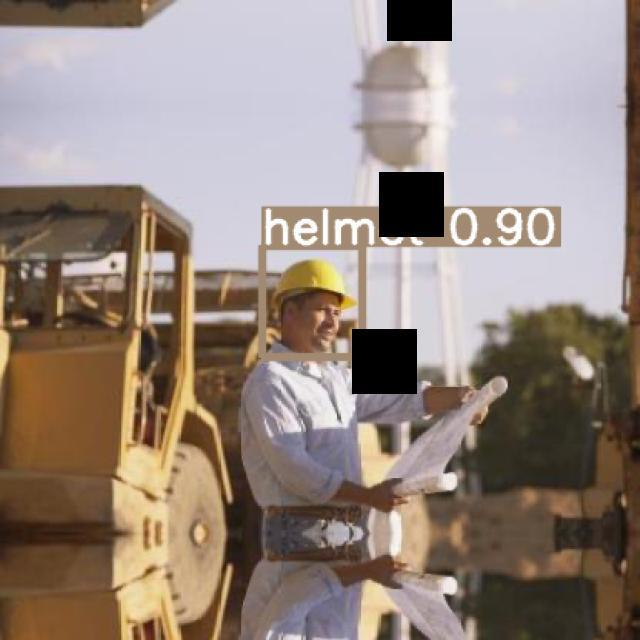yellow helmet: (263, 261, 371, 323)
